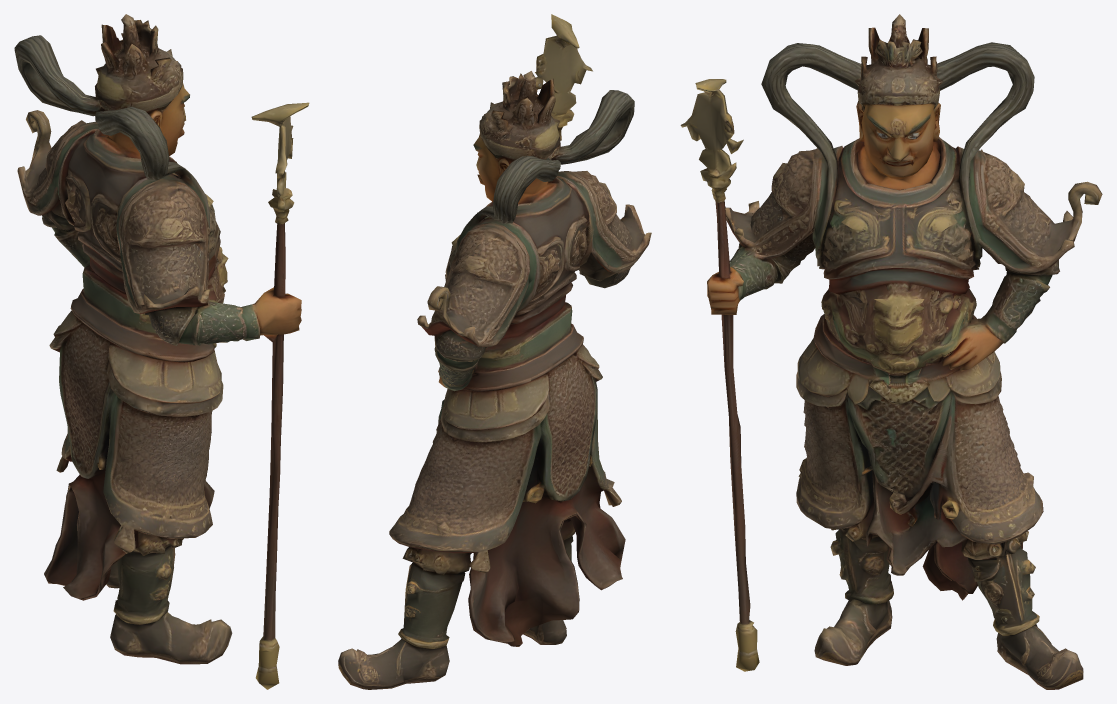
The model's file is weituo.glb.
3 renders of one model, left to right at view 1: azimuth 30°, elevation 25°; view 2: azimuth 150°, elevation 25°; view 3: azimuth 270°, elevation 25°, orthographic. The views are drawn at different scales.
Parts seen in each view (by area): view 1: node_96a9c6ac-41d7-4e77-8f9e-36198b4996c2; view 2: node_96a9c6ac-41d7-4e77-8f9e-36198b4996c2; view 3: node_96a9c6ac-41d7-4e77-8f9e-36198b4996c2.
Boxes of the visible parts, x1,y1,x2,y2 form: node_96a9c6ac-41d7-4e77-8f9e-36198b4996c2: [14, 14, 309, 689]; node_96a9c6ac-41d7-4e77-8f9e-36198b4996c2: [338, 14, 651, 689]; node_96a9c6ac-41d7-4e77-8f9e-36198b4996c2: [680, 14, 1102, 689].
Size of the model in its own units: 0.3317 by 1 by 0.6099.
1 material, 1 textured.
